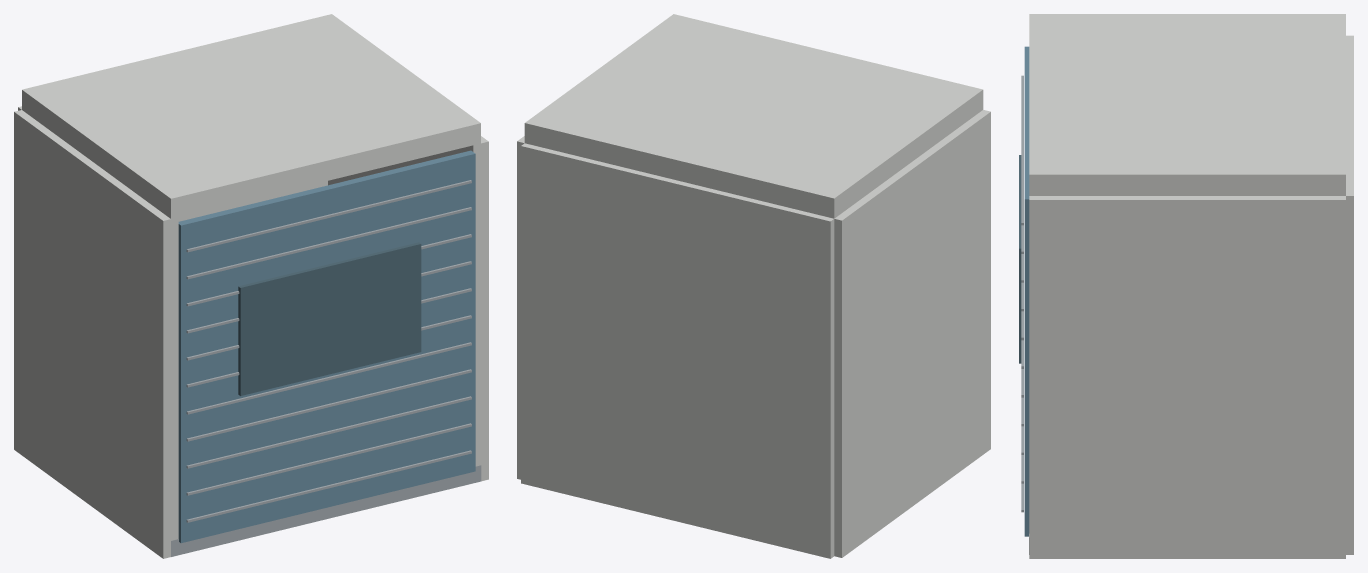
Rendered from long-haul-trucking-and-truck-stop-weigh-station-booth-d87fd64d__13974.glb.
3 renders of one model, left to right at view 1: azimuth 30°, elevation 25°; view 2: azimuth 150°, elevation 25°; view 3: azimuth 270°, elevation 25°, orthographic. The views are drawn at different scales.
Parts seen in each view (by area): view 1: weigh-station-booth; view 2: weigh-station-booth; view 3: weigh-station-booth.
Boxes of the visible parts, x1,y1,x2,y2 form: weigh-station-booth: [14, 14, 488, 558]; weigh-station-booth: [517, 14, 990, 558]; weigh-station-booth: [1019, 14, 1353, 558].
Bounding box in the file's own units: 2.52 × 2.65 × 2.11.
